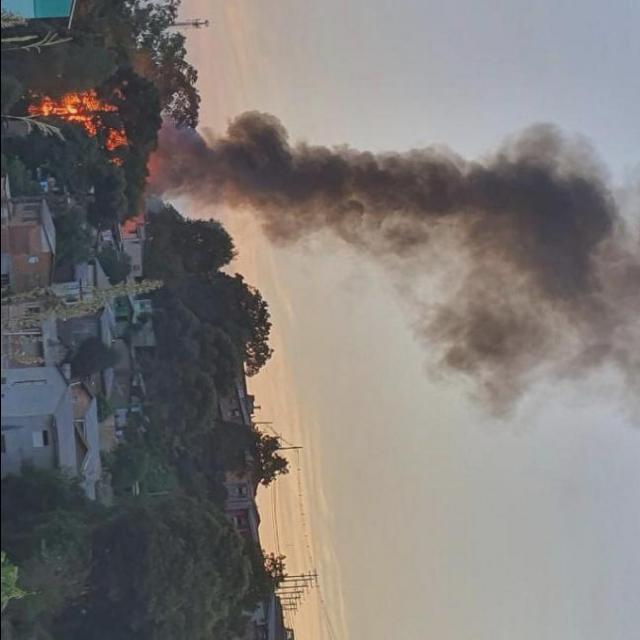Fire: (56, 86, 125, 152)
